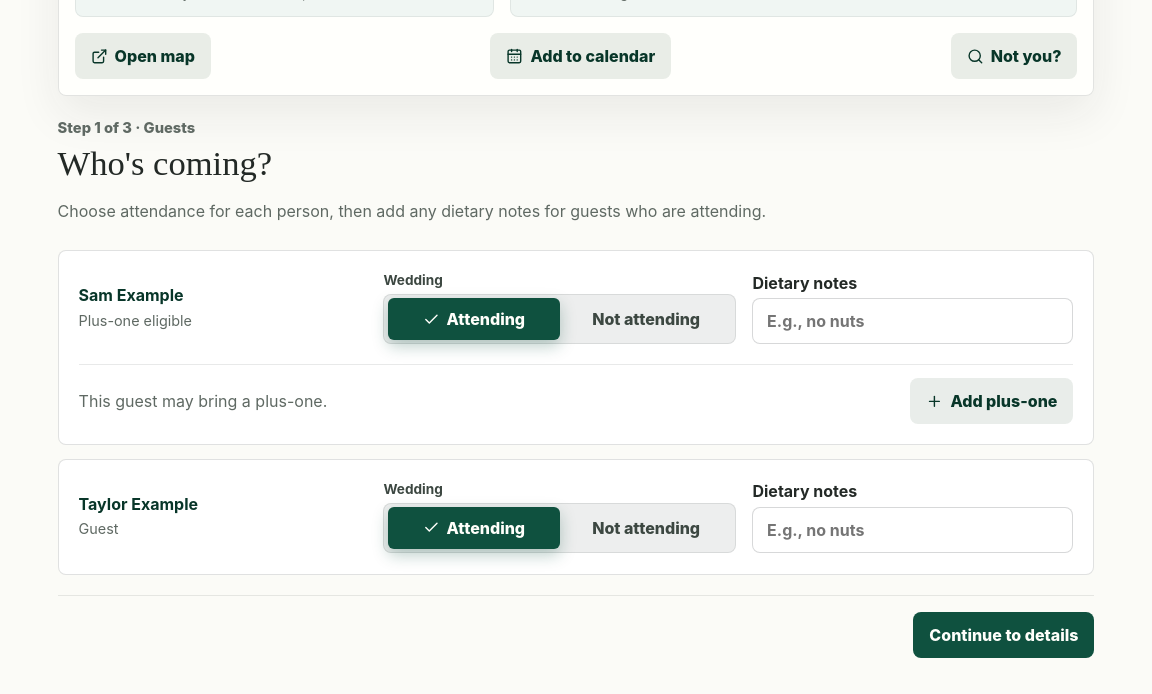
Test case: RsvpPage › keeps SMS controls and text-update links out of the RSVP flow
(page scrolled)
Click the button "Continue to details": (1004, 635) [913,612,1094,658]
(page scrolled)
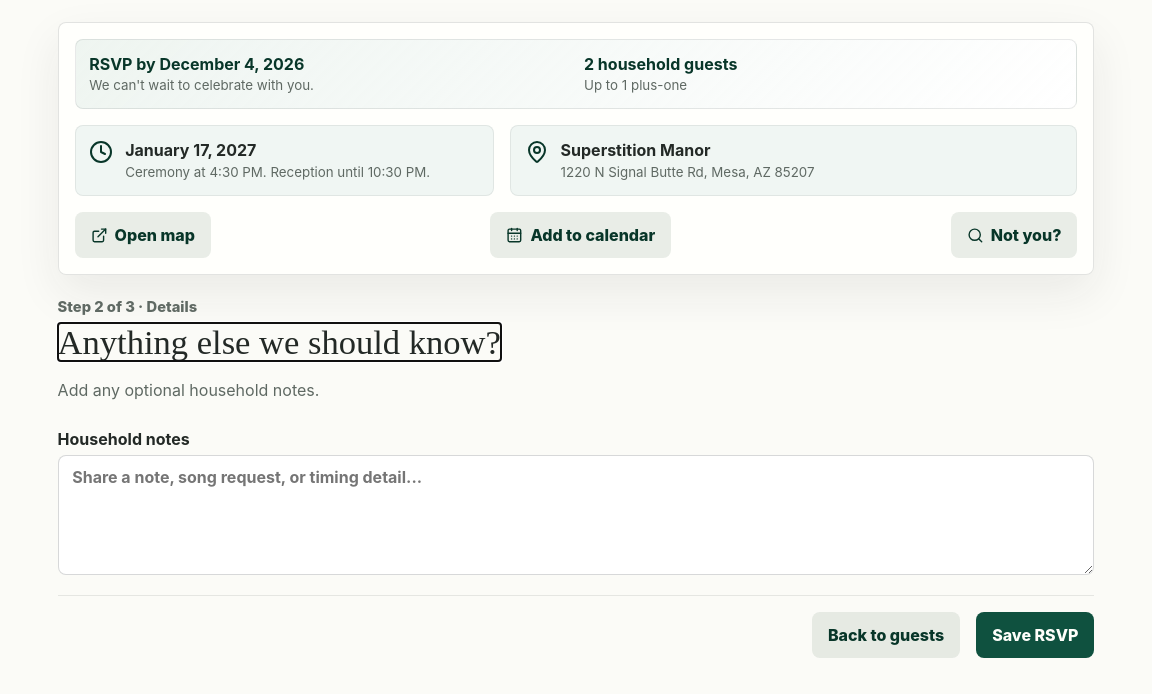
expect the button "Save RSVP" is shown: met, box [976,612,1094,658]
